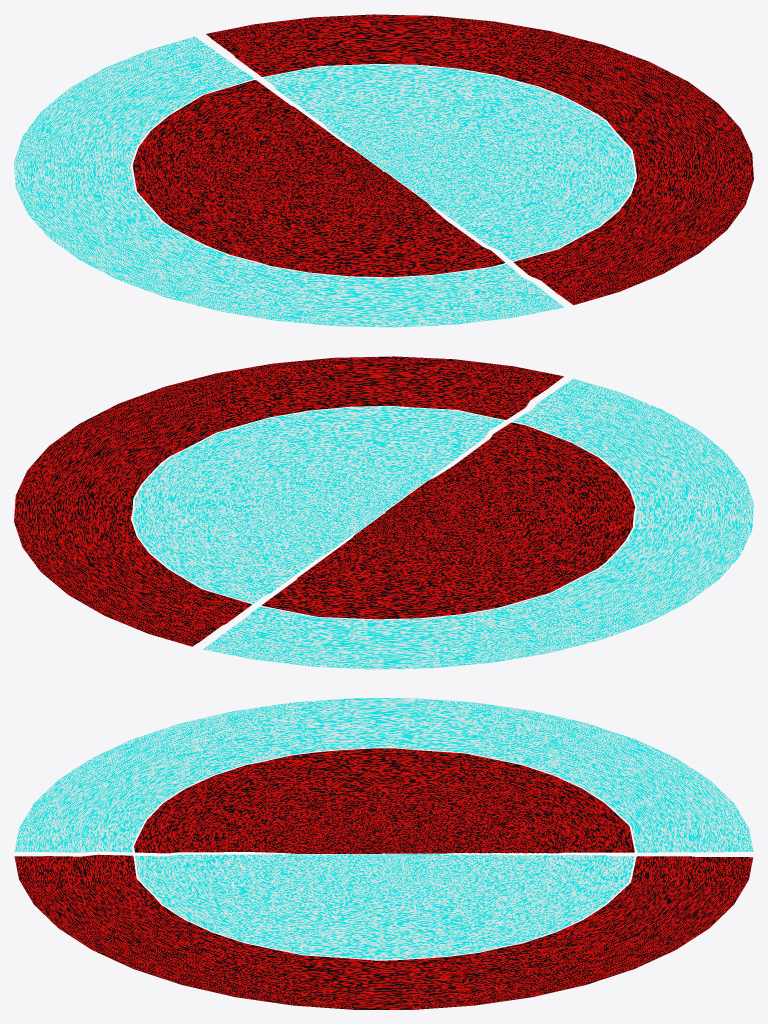
Rendered from SM_SpherePlane_01_HJS.fbx.
3 views of the same model, one above another, from view 1: azimuth 30°, elevation 25°; view 2: azimuth 150°, elevation 25°; view 3: azimuth 270°, elevation 25° (orthographic).
Parts seen in each view (by area): view 1: SM_SpherePlane_01_HJS; view 2: SM_SpherePlane_01_HJS; view 3: SM_SpherePlane_01_HJS.
Part boxes in pixels (<box>): SM_SpherePlane_01_HJS: <box>14,14,753,327</box>; SM_SpherePlane_01_HJS: <box>14,356,753,669</box>; SM_SpherePlane_01_HJS: <box>14,698,753,1009</box>.
Size of the model in its own units: 450 by 0.0116 by 451.
